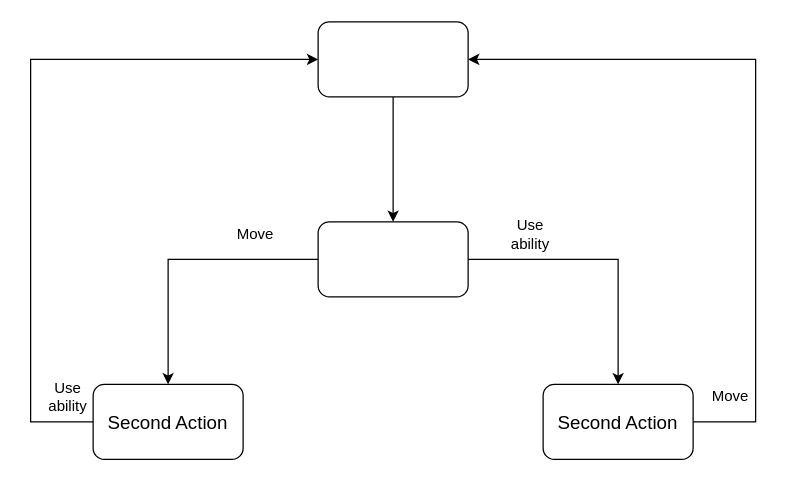
The diagram is 788 pixels wide and 481 high, and some of its shapes have lost their labels. The centre of each missing label's shape, as x and y in pixels:
"First Action" belongs at point 392,259.
"Wait turn" belongs at point 392,59.
